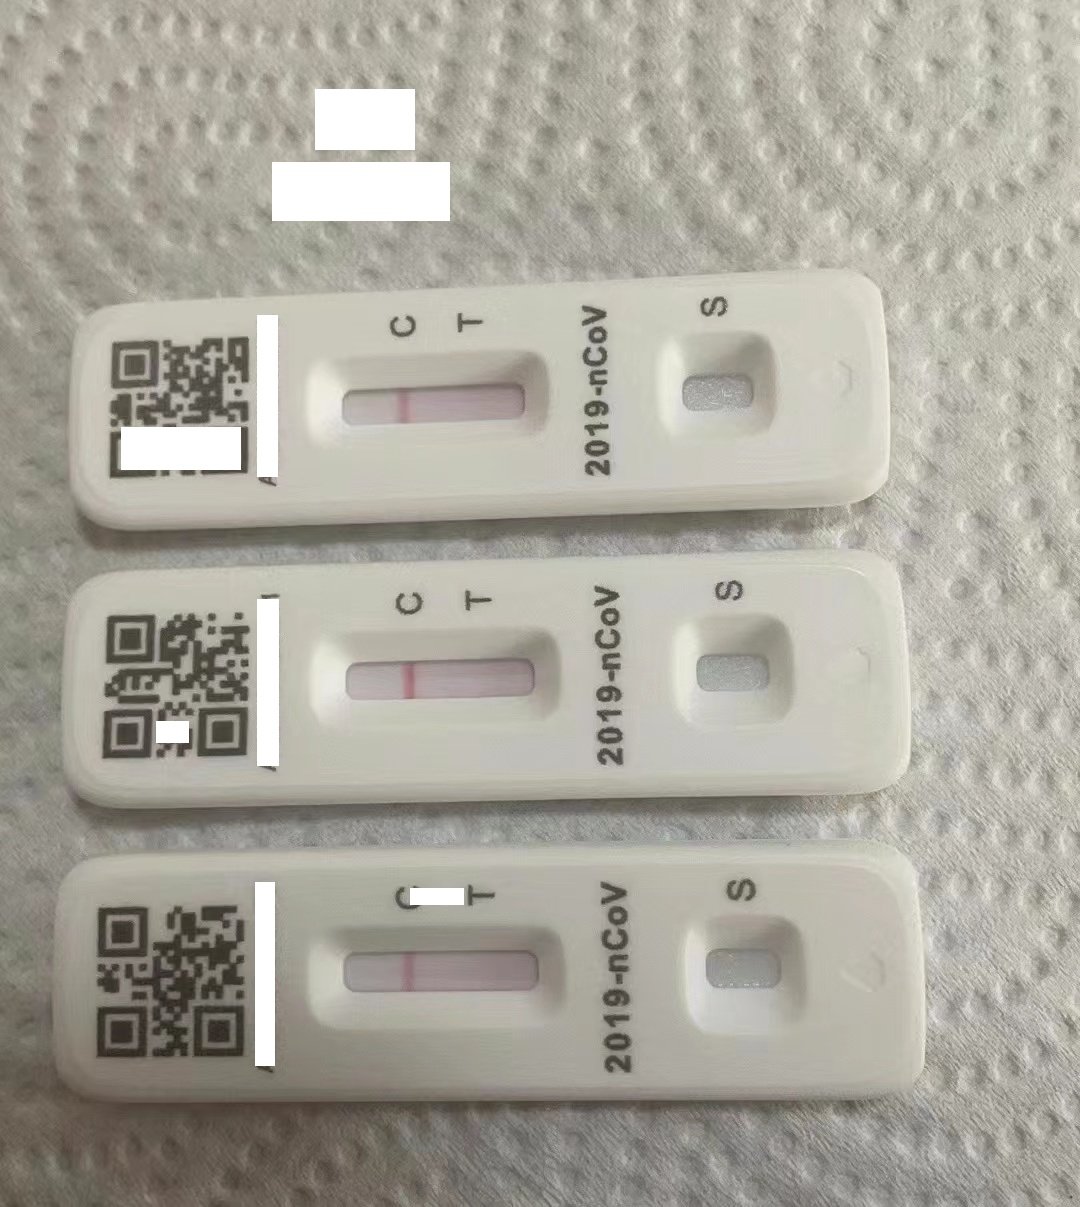negative: (316, 917, 567, 1036), (308, 631, 560, 747), (311, 354, 561, 447)
